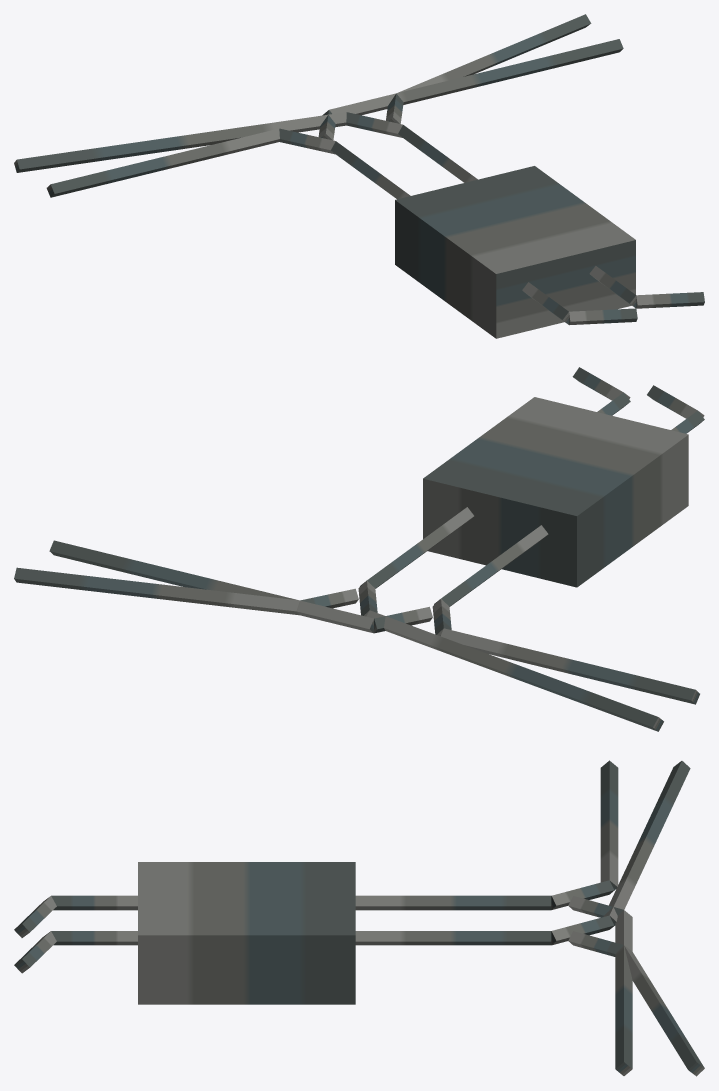
The model's file is pz_native_electrical_180.obj.
3 renders of one model, top to bottom at view 1: azimuth 30°, elevation 25°; view 2: azimuth 150°, elevation 25°; view 3: azimuth 270°, elevation 25°, orthographic. The views are drawn at different scales.
Parts seen in each view (by area): view 1: panel_case, conduit; view 2: panel_case, conduit; view 3: panel_case, conduit, conduit_end.
Part boxes in pixels (left/top/right/bottom): panel_case: left=395, top=166, right=635, bottom=338; conduit: left=17, top=14, right=704, bottom=325; panel_case: left=423, top=397, right=688, bottom=587; conduit: left=14, top=367, right=704, bottom=731; panel_case: left=138, top=862, right=355, bottom=1004; conduit: left=14, top=760, right=704, bottom=1069; conduit_end: left=14, top=881, right=704, bottom=1076.
Size of the model in its own units: 0.9979 by 0.1068 by 0.9619.
Materials: 1 (1 with a texture image).
